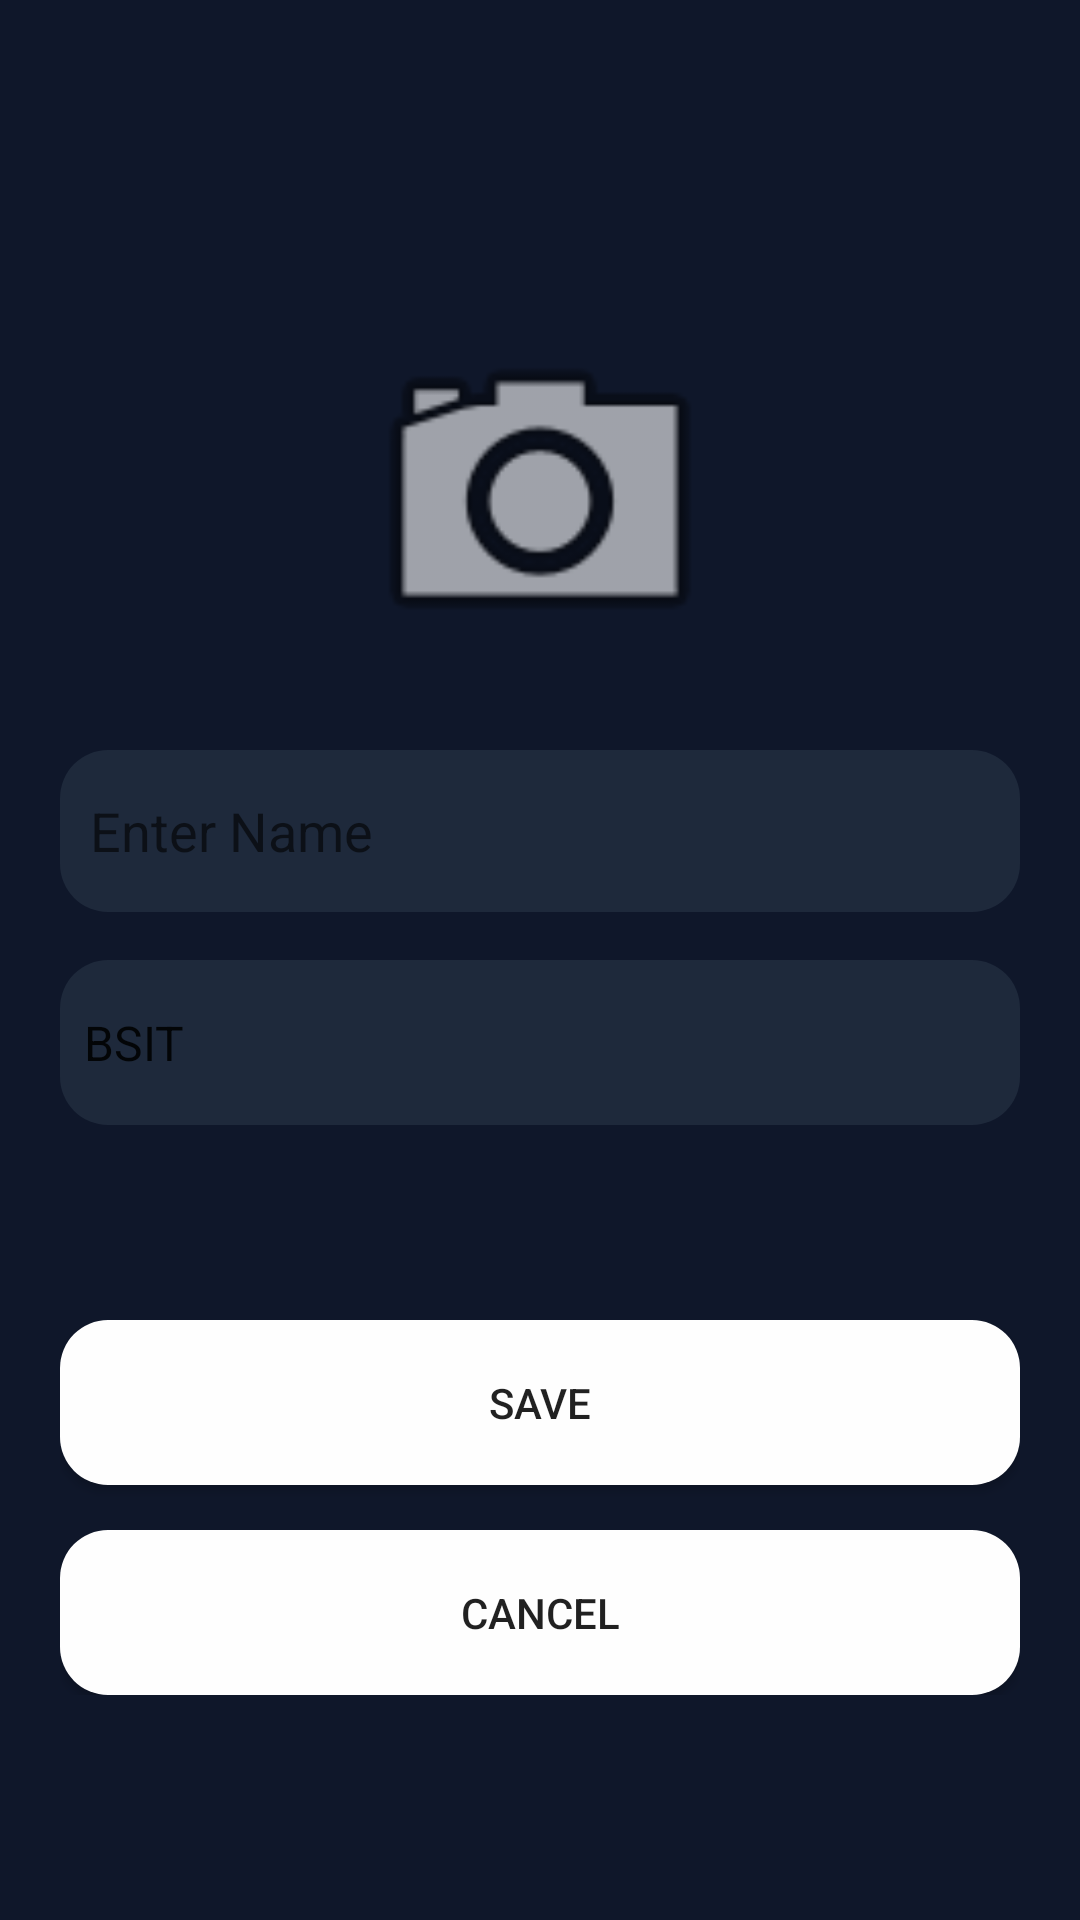

Point at icon controls on the screen. Image size 1080*1920, points as point (x, y).
camera: point (540, 489)
